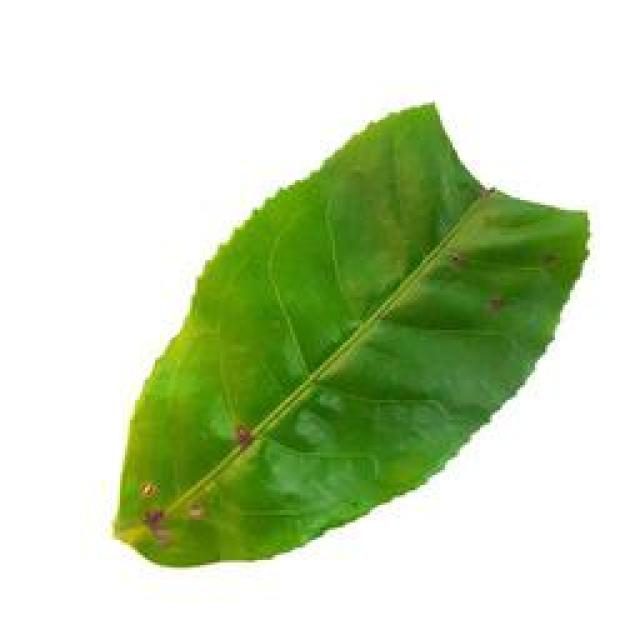Helopeltis: (95, 100, 607, 584)
